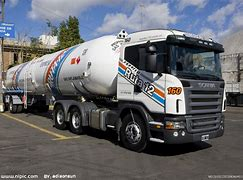oil truck: (0, 19, 230, 153)
